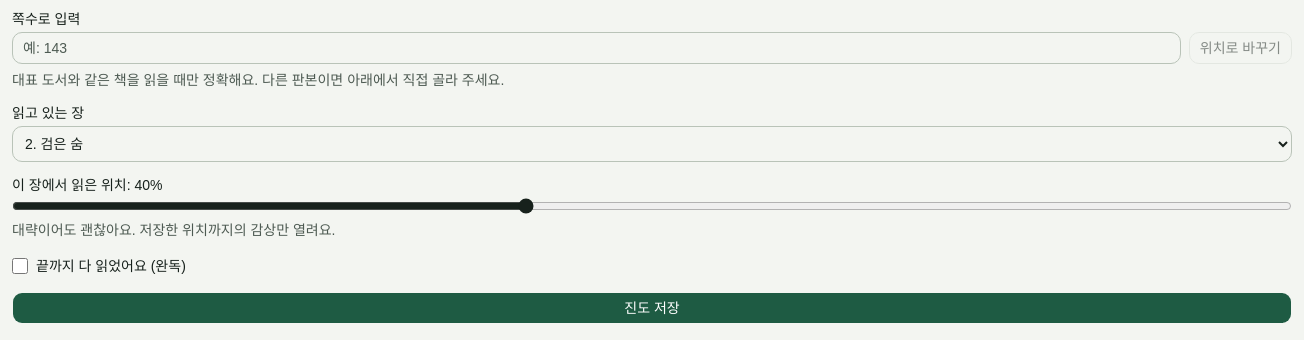
Scenario: 진도 입력 › 완독을 체크하면 위치 입력을 잠근다
This screenshot has width=1304, height=340.
Click the checkbox labelled "끝까지 다 읽었어요 (완독)" at (20, 266), box [12,258,28,274]
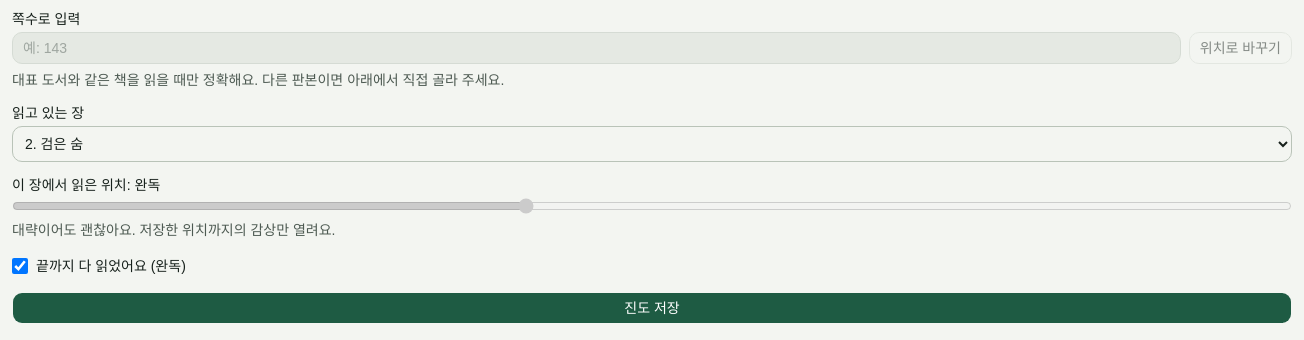
Expected: the dropdown labelled "읽고 있는 장" is disabled, [12,126,1292,162]
Expected: the text "이 장에서 읽은 위치: 완독" is shown, [12,177,160,193]
